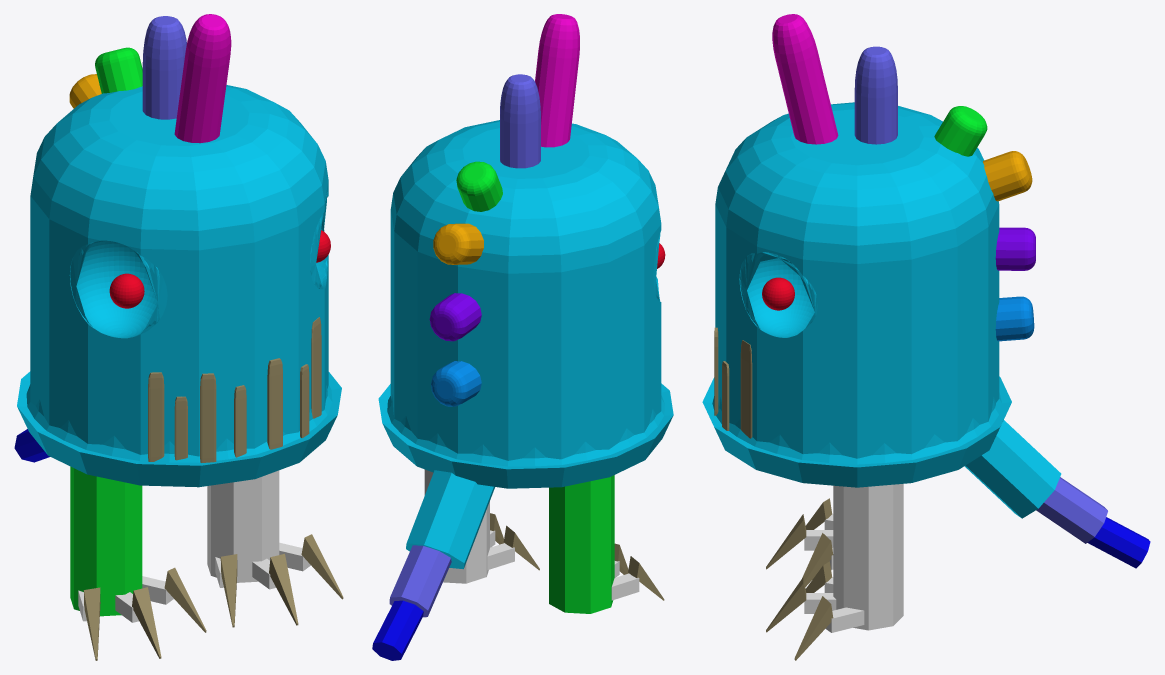
The picture shows the model from 3 angles, left to right: view 1: azimuth 30°, elevation 25°; view 2: azimuth 150°, elevation 25°; view 3: azimuth 270°, elevation 25°; orthographic projection. The views are drawn at different scales.
Visible parts, largest first — view 1: Cylinder, Cylinder.014, Cylinder.007, Cylinder.008, Cylinder.001, Cylinder.002, Cylinder.003, Cube.014, Cube.015, Cube.012, Cube.013, Sphere (+13 smaller); view 2: Cylinder, Cylinder.007, Cylinder.009, Cylinder.001, Cylinder.002, Cylinder.014, Cylinder.011, Cylinder.012, Cylinder.005, Cylinder.003, Cylinder.004, Cylinder.006 (+5 smaller); view 3: Cylinder, Cylinder.008, Cylinder.014, Cylinder.001, Cylinder.009, Cylinder.002, Cylinder.011, Cylinder.003, Cylinder.004, Cylinder.012, Cylinder.005, Cylinder.006 (+5 smaller).
Boxes of the visible parts, x1,y1,x2,y2 form: Cylinder: (17, 85, 341, 487); Cylinder.014: (26, 194, 332, 462); Cylinder.007: (70, 466, 142, 616); Cylinder.008: (207, 470, 279, 582); Cylinder.001: (174, 14, 231, 143); Cylinder.002: (142, 16, 186, 119); Cylinder.003: (95, 47, 142, 93); Cube.014: (200, 373, 216, 462); Cube.015: (148, 372, 164, 461); Cube.012: (267, 358, 282, 449); Cube.013: (311, 317, 321, 418); Sphere: (109, 273, 144, 308); Cylinder: (378, 120, 673, 488); Cylinder.007: (549, 475, 614, 613); Cylinder.009: (406, 470, 494, 569); Cylinder.001: (535, 14, 579, 147); Cylinder.002: (500, 74, 540, 168); Cylinder.014: (387, 233, 664, 466); Cylinder.011: (389, 545, 451, 617); Cylinder.012: (372, 600, 423, 660); Cylinder.005: (429, 293, 481, 341); Cylinder.003: (456, 161, 502, 211); Cylinder.004: (433, 223, 483, 264); Cylinder.006: (431, 361, 481, 406); Cylinder: (702, 102, 1011, 487); Cylinder.008: (833, 484, 903, 630); Cylinder.014: (712, 252, 1001, 464); Cylinder.001: (772, 14, 838, 144); Cylinder.009: (964, 420, 1061, 518); Cylinder.002: (854, 46, 897, 144); Cylinder.011: (1036, 477, 1107, 543); Cylinder.003: (934, 106, 987, 156); Cylinder.004: (983, 151, 1032, 201); Cylinder.012: (1087, 517, 1150, 568); Cylinder.005: (995, 227, 1035, 270); Cylinder.006: (995, 296, 1034, 341).
Size of the model in its own units: 218 by 452 by 316.
